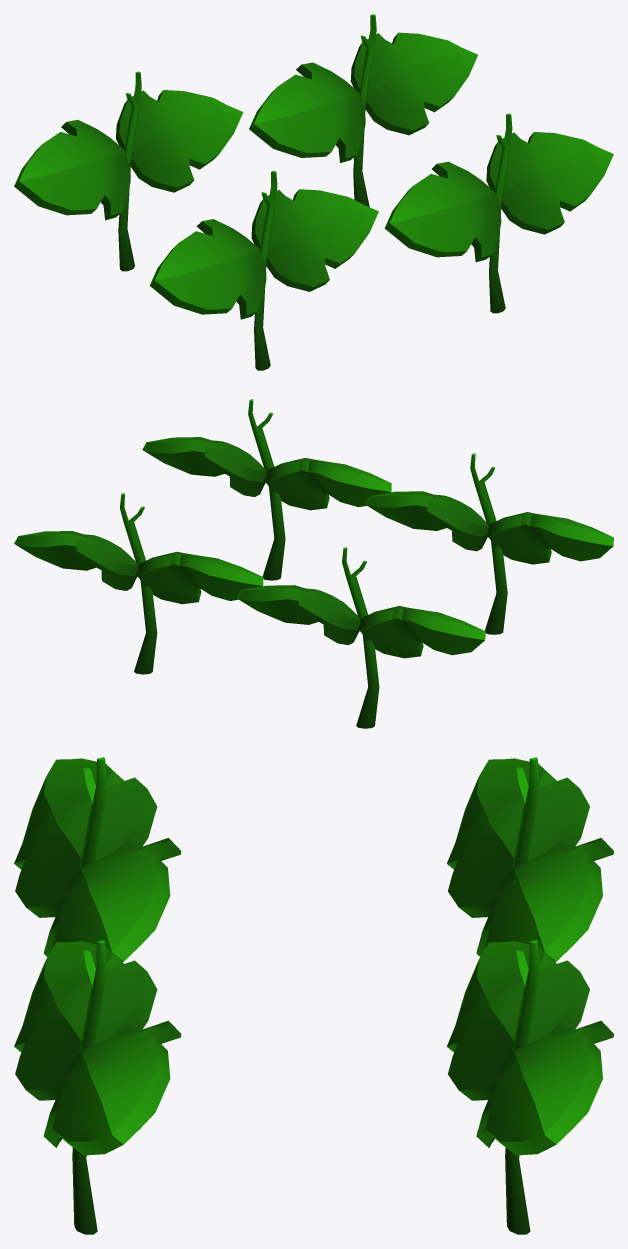
Rendered from Farm_Crop_Tomato_Step_01.fbx.
The picture shows the model from 3 angles, top to bottom: view 1: azimuth 30°, elevation 25°; view 2: azimuth 150°, elevation 25°; view 3: azimuth 270°, elevation 25°; orthographic projection. The views are drawn at different scales.
Parts seen in each view (by area): view 1: Farm_Crop_Tomato_Step_01; view 2: Farm_Crop_Tomato_Step_01; view 3: Farm_Crop_Tomato_Step_01.
Part boxes in pixels (x1,y1,x2,y2): Farm_Crop_Tomato_Step_01: (14, 14, 613, 370); Farm_Crop_Tomato_Step_01: (14, 399, 613, 728); Farm_Crop_Tomato_Step_01: (14, 757, 613, 1234).
Size of the model in its own units: 204 by 76.37 by 139.
